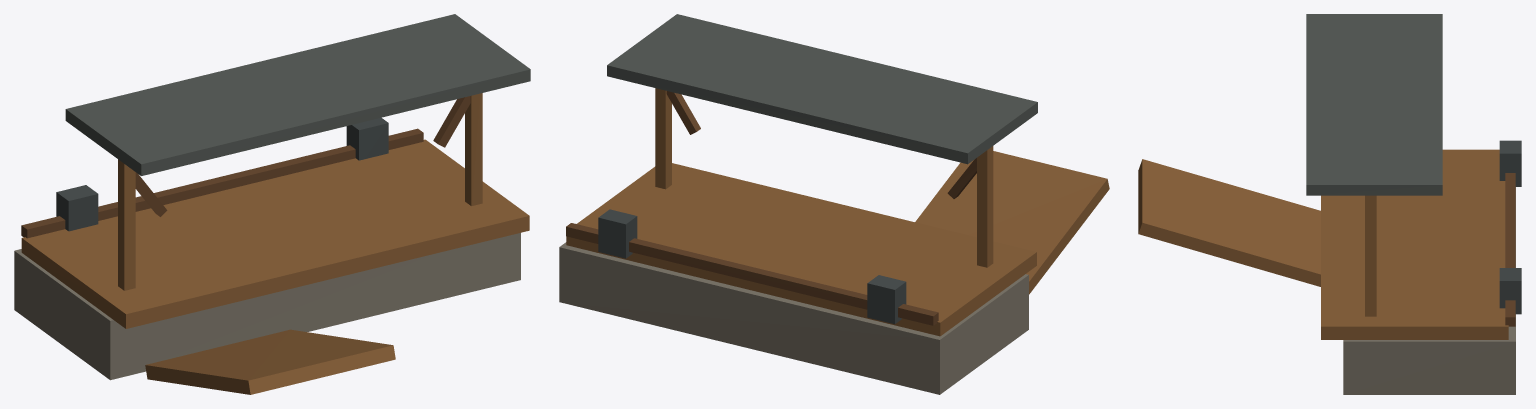
The model's file is loading-dock.source.glb.
3 views of the same model, side by side, from view 1: azimuth 30°, elevation 25°; view 2: azimuth 150°, elevation 25°; view 3: azimuth 270°, elevation 25° (orthographic). The views are drawn at different scales.
Visible parts, largest first — view 1: loading-dock-timber-transfer-platform-mesh, loading-dock-sloped-loading-canopy-mesh, loading-dock-stone-raised-base-mesh, loading-dock-timber-access-ramp-mesh, loading-dock-warehouse-attachment-rail-mesh, loading-dock-canopy-post--2.45-mesh, loading-dock-canopy-post-2.45-mesh, loading-dock-transfer-bumper-left-mesh, loading-dock-transfer-bumper-right-mesh, loading-dock-canopy-brace-2.45-mesh, loading-dock-canopy-brace--2.45-mesh; view 2: loading-dock-timber-transfer-platform-mesh, loading-dock-sloped-loading-canopy-mesh, loading-dock-stone-raised-base-mesh, loading-dock-timber-access-ramp-mesh, loading-dock-warehouse-attachment-rail-mesh, loading-dock-canopy-post--2.45-mesh, loading-dock-canopy-post-2.45-mesh, loading-dock-transfer-bumper-left-mesh, loading-dock-transfer-bumper-right-mesh, loading-dock-canopy-brace-2.45-mesh; view 3: loading-dock-timber-transfer-platform-mesh, loading-dock-sloped-loading-canopy-mesh, loading-dock-timber-access-ramp-mesh, loading-dock-stone-raised-base-mesh, loading-dock-canopy-post-2.45-mesh, loading-dock-warehouse-attachment-rail-mesh, loading-dock-transfer-bumper-left-mesh, loading-dock-transfer-bumper-right-mesh.
Boxes of the visible parts, x1=… form: loading-dock-timber-transfer-platform-mesh: x1=21, y1=139, x2=529, y2=328; loading-dock-sloped-loading-canopy-mesh: x1=65, y1=14, x2=530, y2=175; loading-dock-stone-raised-base-mesh: x1=14, y1=233, x2=520, y2=380; loading-dock-timber-access-ramp-mesh: x1=145, y1=329, x2=395, y2=394; loading-dock-warehouse-attachment-rail-mesh: x1=21, y1=128, x2=423, y2=238; loading-dock-canopy-post--2.45-mesh: x1=118, y1=159, x2=135, y2=290; loading-dock-canopy-post-2.45-mesh: x1=465, y1=93, x2=482, y2=206; loading-dock-transfer-bumper-left-mesh: x1=56, y1=185, x2=98, y2=231; loading-dock-transfer-bumper-right-mesh: x1=346, y1=117, x2=388, y2=160; loading-dock-canopy-brace-2.45-mesh: x1=433, y1=96, x2=470, y2=147; loading-dock-canopy-brace--2.45-mesh: x1=135, y1=172, x2=167, y2=216; loading-dock-timber-transfer-platform-mesh: x1=566, y1=163, x2=1036, y2=336; loading-dock-sloped-loading-canopy-mesh: x1=607, y1=14, x2=1037, y2=164; loading-dock-stone-raised-base-mesh: x1=559, y1=242, x2=1028, y2=394; loading-dock-timber-access-ramp-mesh: x1=915, y1=151, x2=1109, y2=294; loading-dock-warehouse-attachment-rail-mesh: x1=566, y1=223, x2=938, y2=325; loading-dock-canopy-post--2.45-mesh: x1=977, y1=146, x2=993, y2=267; loading-dock-canopy-post-2.45-mesh: x1=655, y1=88, x2=671, y2=189; loading-dock-transfer-bumper-left-mesh: x1=867, y1=275, x2=906, y2=324; loading-dock-transfer-bumper-right-mesh: x1=598, y1=209, x2=637, y2=258; loading-dock-canopy-brace-2.45-mesh: x1=666, y1=91, x2=700, y2=134; loading-dock-timber-transfer-platform-mesh: x1=1321, y1=149, x2=1508, y2=339; loading-dock-sloped-loading-canopy-mesh: x1=1306, y1=14, x2=1442, y2=195; loading-dock-timber-access-ramp-mesh: x1=1138, y1=159, x2=1320, y2=286; loading-dock-stone-raised-base-mesh: x1=1343, y1=187, x2=1515, y2=394; loading-dock-canopy-post-2.45-mesh: x1=1365, y1=195, x2=1376, y2=316; loading-dock-warehouse-attachment-rail-mesh: x1=1505, y1=173, x2=1515, y2=326; loading-dock-transfer-bumper-left-mesh: x1=1499, y1=140, x2=1521, y2=186; loading-dock-transfer-bumper-right-mesh: x1=1499, y1=268, x2=1521, y2=314.
Size of the model in its own units: 5.8 by 3.08 by 5.21.
